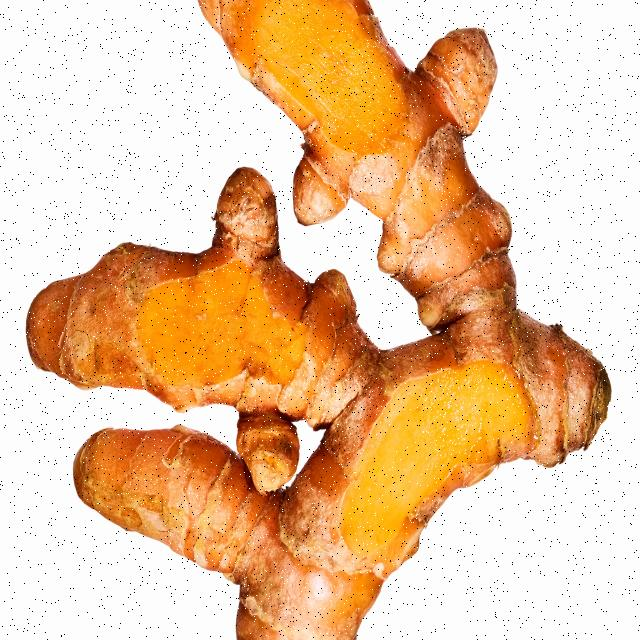turmeric: (13, 3, 612, 640)
